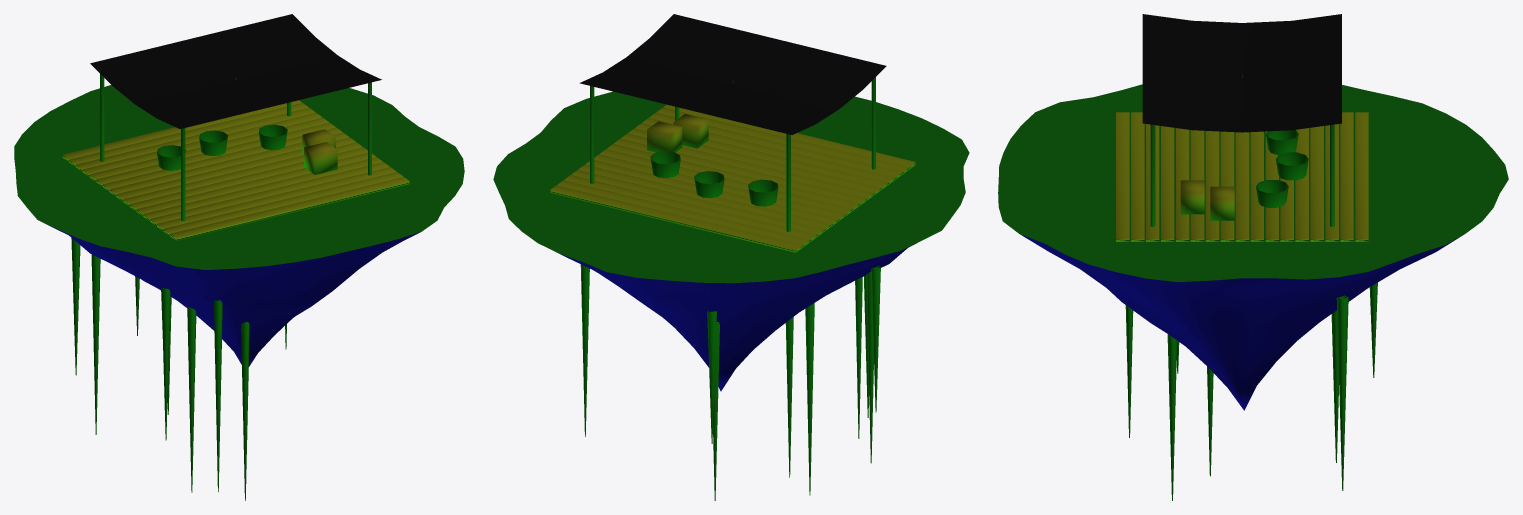
Rendered from memory_market.glb.
3 renders of one model, left to right at view 1: azimuth 30°, elevation 25°; view 2: azimuth 150°, elevation 25°; view 3: azimuth 270°, elevation 25°, orthographic. The views are drawn at different scales.
Parts seen in each view (by area): view 1: memory_market; view 2: memory_market; view 3: memory_market.
Part boxes in pixels (box(x1,y1,x2,y2)): memory_market: box(14, 14, 464, 500); memory_market: box(493, 14, 969, 500); memory_market: box(998, 14, 1508, 500).
Size of what is drawn, in the model's own units: 9.98 by 9.83 by 10.25.
